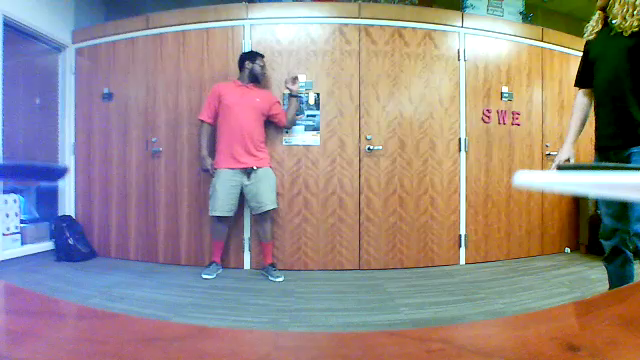up: (282, 65, 300, 102)
